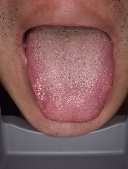tongue: (24, 36, 114, 124)
